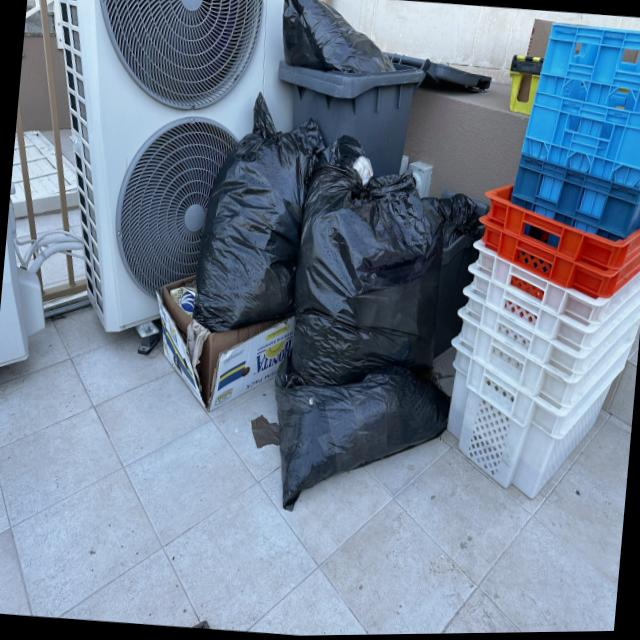Mixed Waste -Black Bags-: (192, 93, 479, 511)
